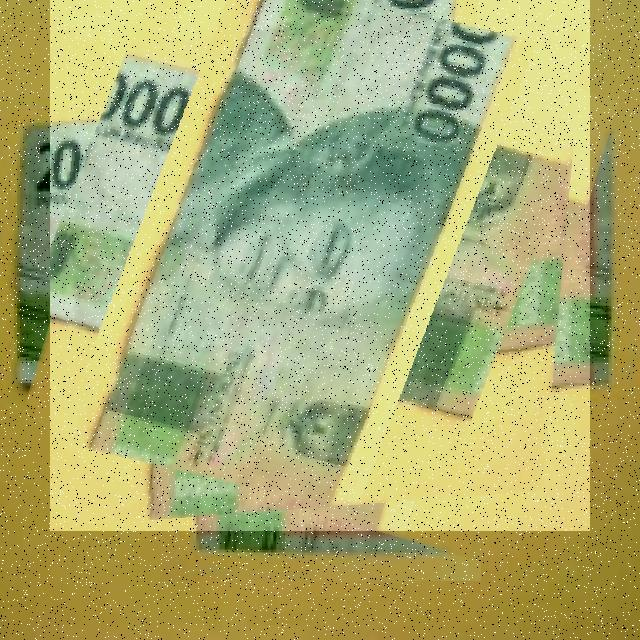dua puluh ribu rupiah: (50, 0, 590, 531)
